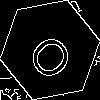O: (25, 25, 83, 84)
